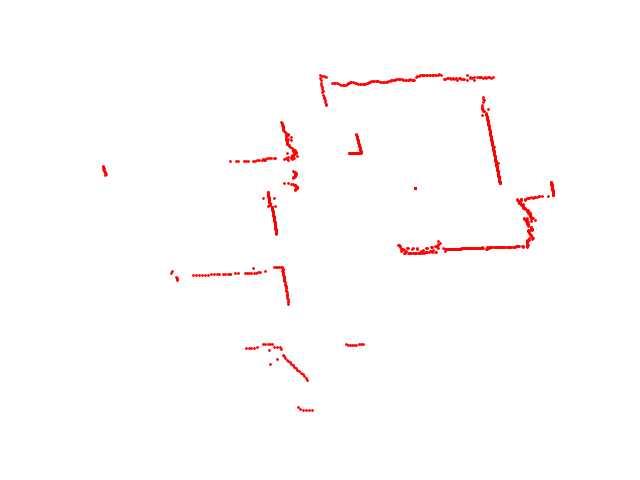person: (282, 169, 304, 194)
